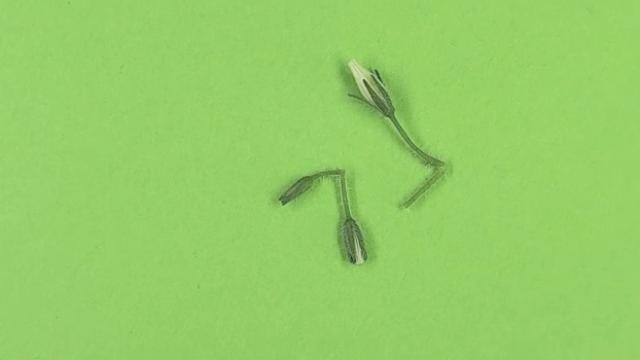Flower Bud: (348, 59, 394, 117), (277, 174, 320, 206), (340, 220, 368, 265)
